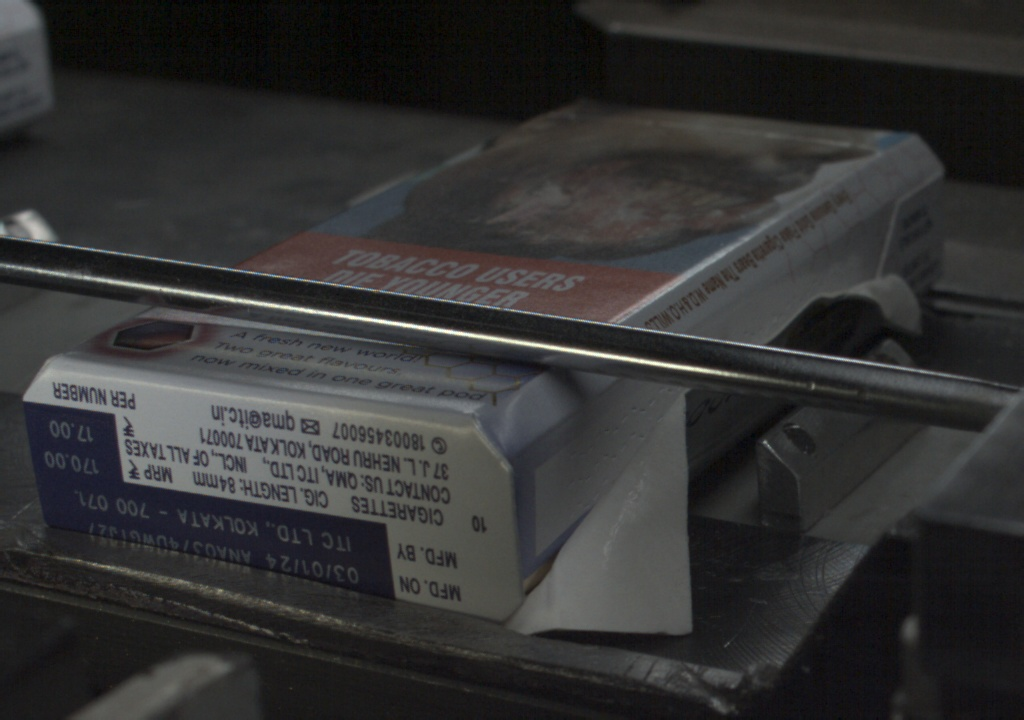g_bottom: (25, 367, 511, 634)
g_label: (36, 483, 394, 600)
g_miter: (893, 169, 942, 212)
ng_lmiter: (522, 388, 682, 631), (830, 264, 930, 344), (753, 272, 811, 339)
price: (28, 409, 123, 483)
